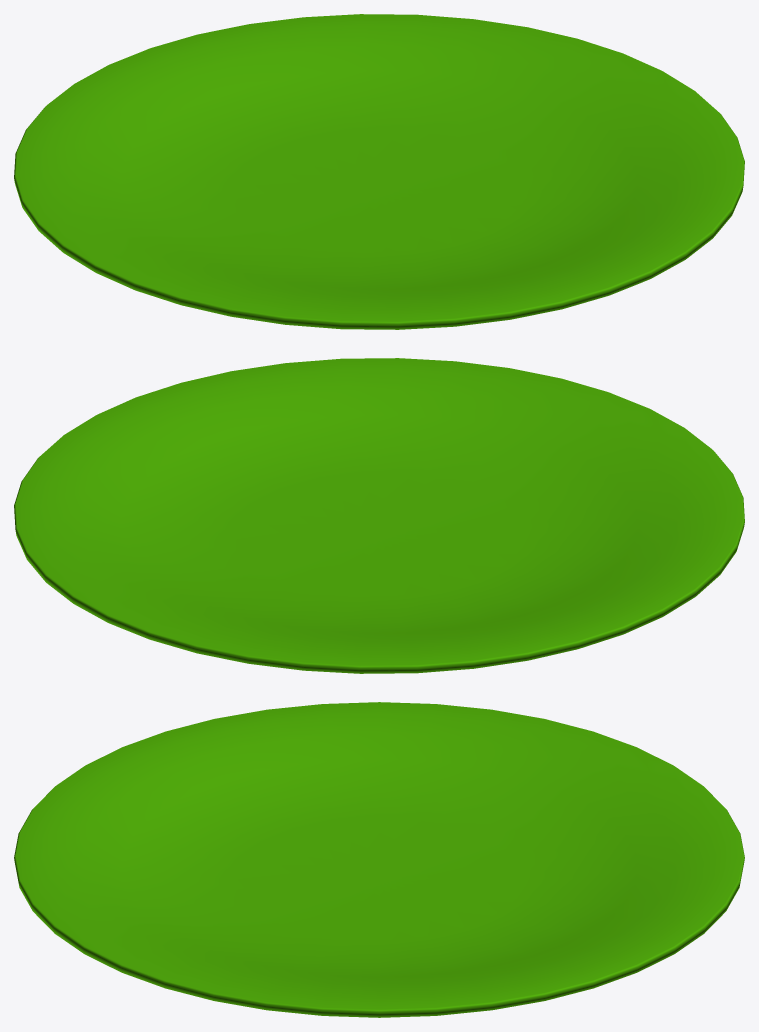
Rendered from Plate.fbx.
3 views of the same model, one above another, from view 1: azimuth 30°, elevation 25°; view 2: azimuth 150°, elevation 25°; view 3: azimuth 270°, elevation 25° (orthographic).
Visible parts, largest first — view 1: Plate; view 2: Plate; view 3: Plate.
Boxes of the visible parts, <box> form: Plate: <box>14,14,744,329</box>; Plate: <box>14,358,744,673</box>; Plate: <box>14,702,744,1017</box>.
Size of the model in its own units: 134 by 9.09 by 134.
